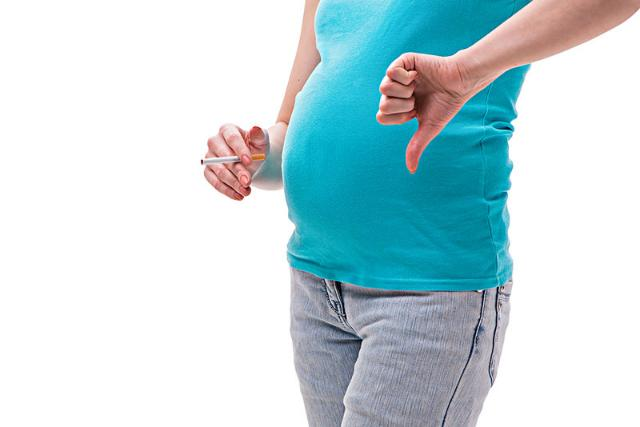Cigarette: (194, 152, 266, 169)
